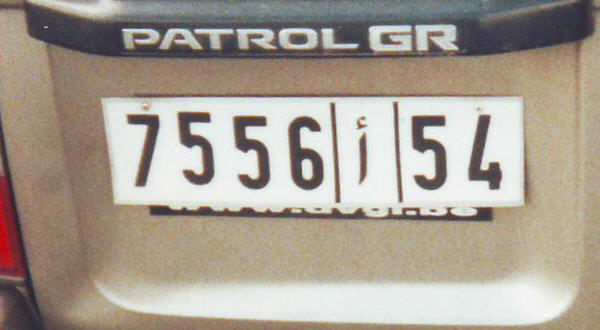number_plate: (96, 94, 529, 210)
